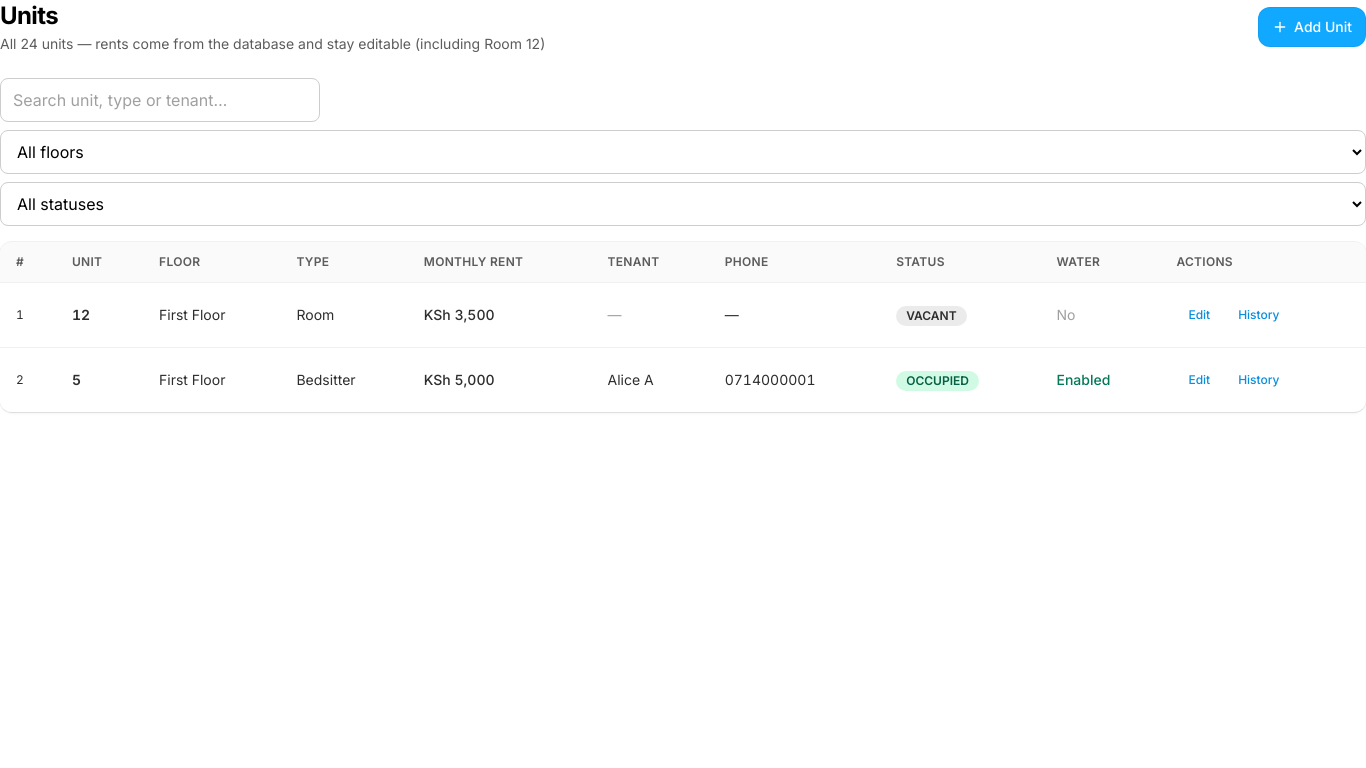
Test: Units (edit a unit) › editing a second unit shows its values, not the first unit's
Expected: the text "12" is shown, [56, 282, 143, 348]
Click the button "Edit" in the row of "KSh 3,500".
click(1199, 315)  # box [1176, 295, 1222, 335]
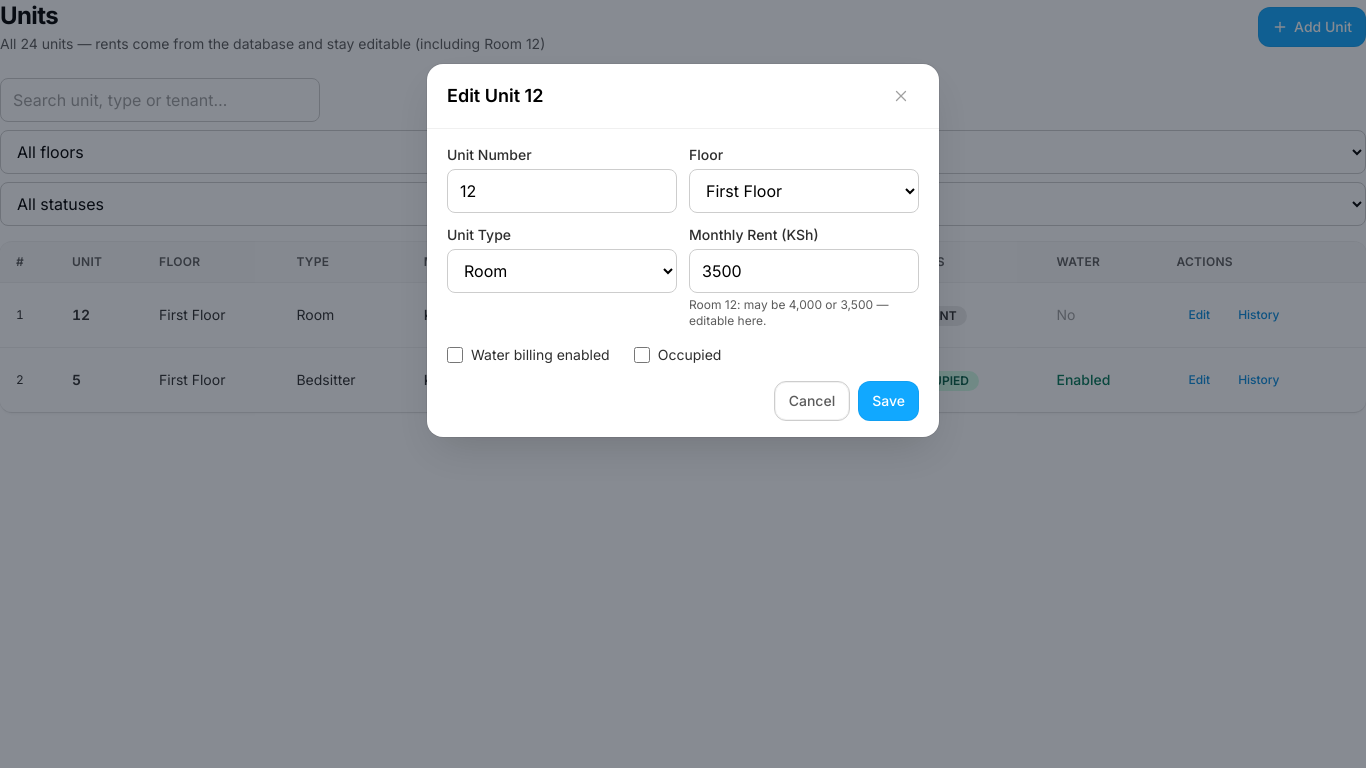
Result: the heading "Edit Unit 12" is shown at [447, 82, 543, 110]
Click the button "Cancel".
click(812, 401)  # box [774, 381, 850, 421]
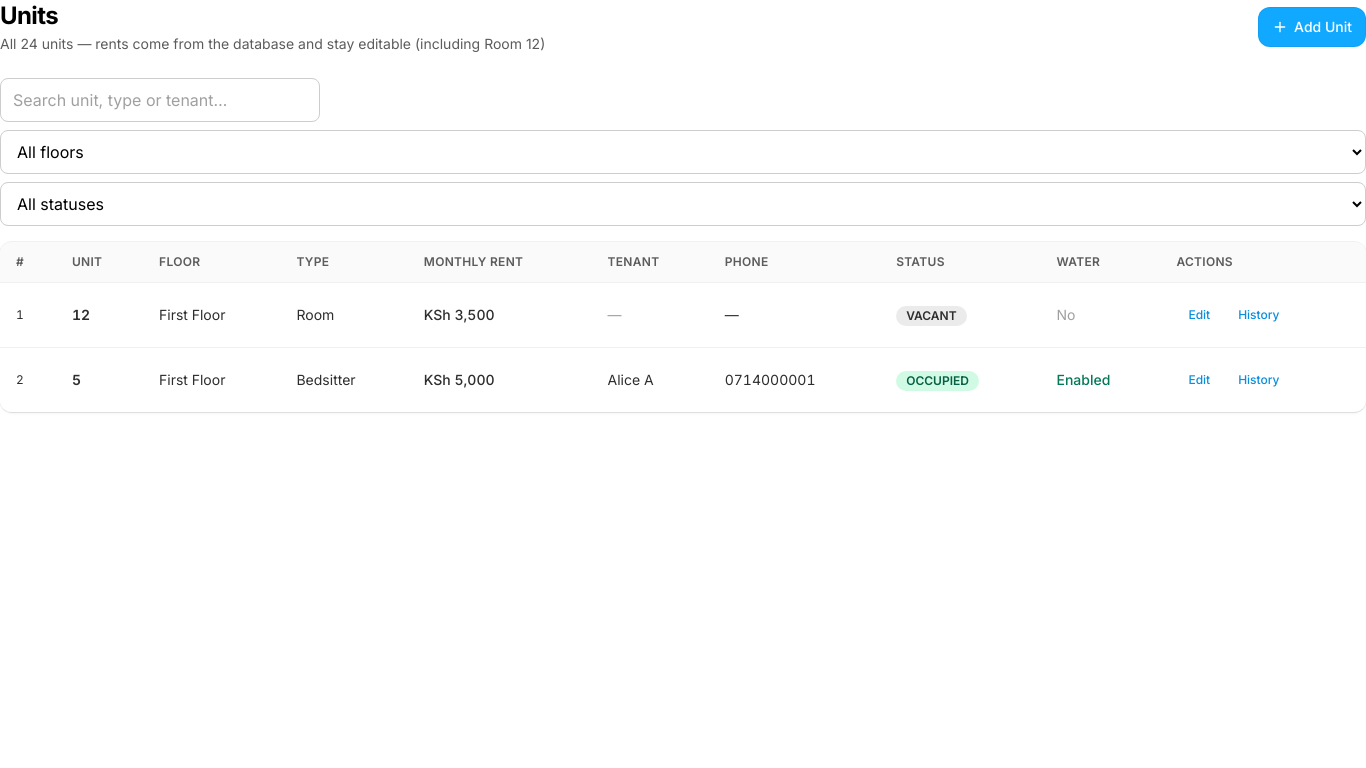
Click the button "Edit" in the row of "Bedsitter".
click(1199, 380)  # box [1176, 360, 1222, 400]
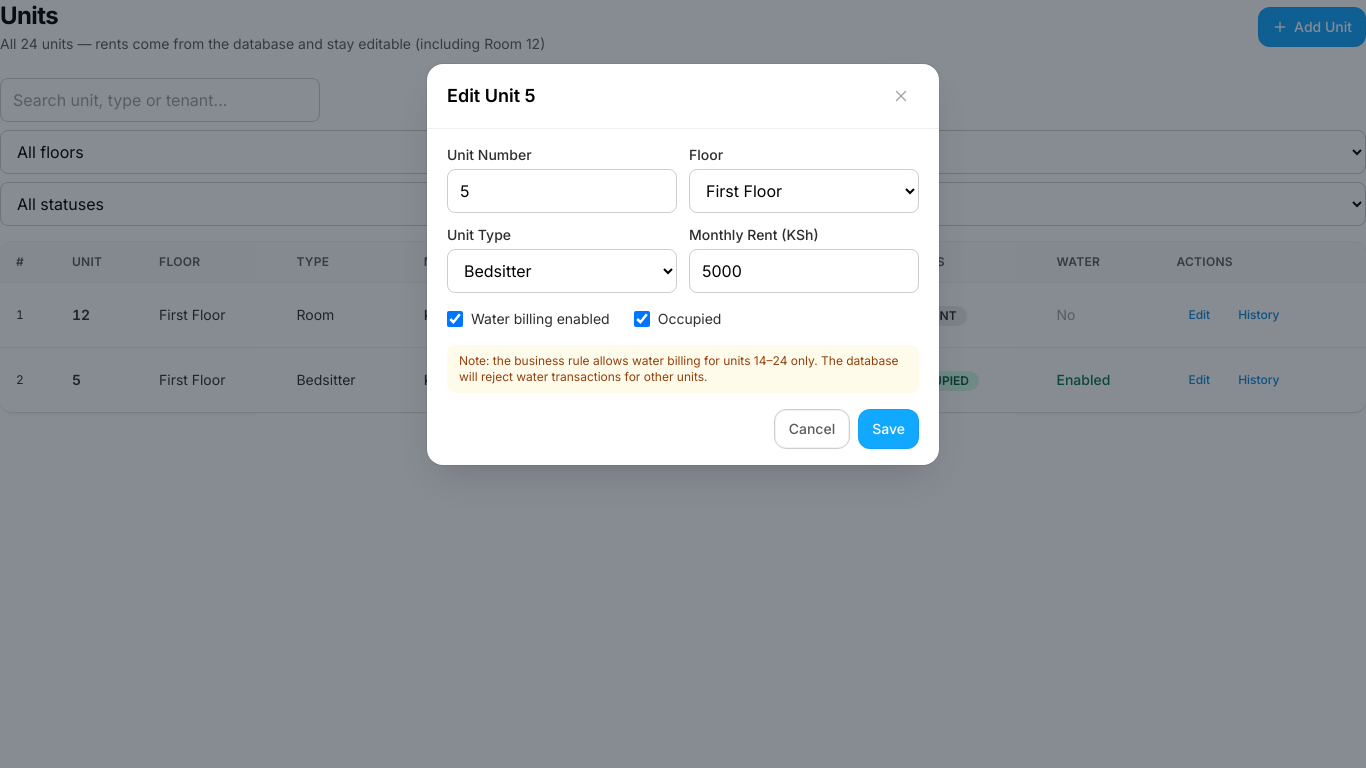
Result: the heading "Edit Unit 5" is shown at [447, 82, 536, 110]
Result: the field labelled "Unit Number" holds "5" at [447, 169, 677, 213]
Result: the number field labelled "Monthly Rent (KSh)" holds "5000" at [689, 249, 919, 293]
